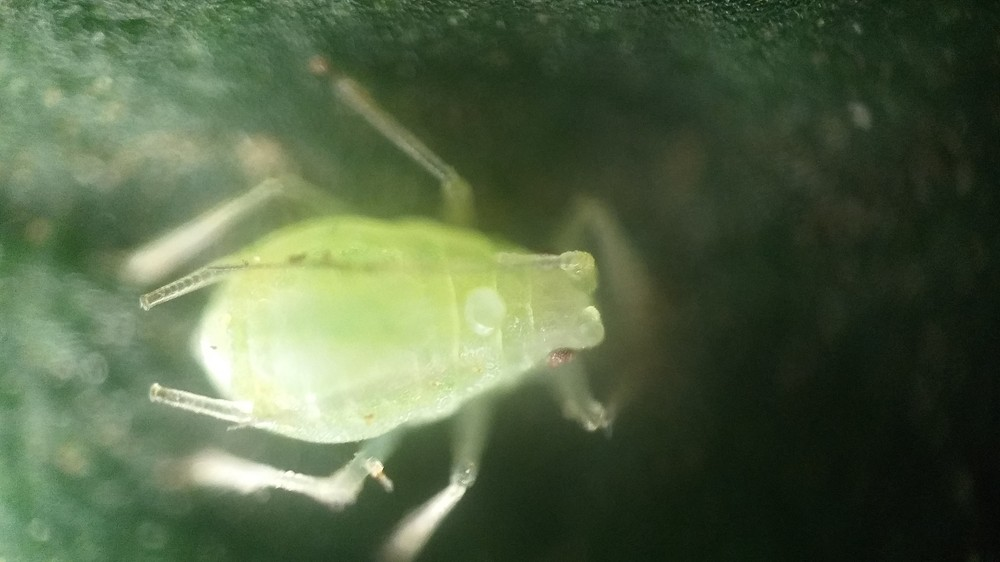Pulgon: (115, 80, 703, 552)
